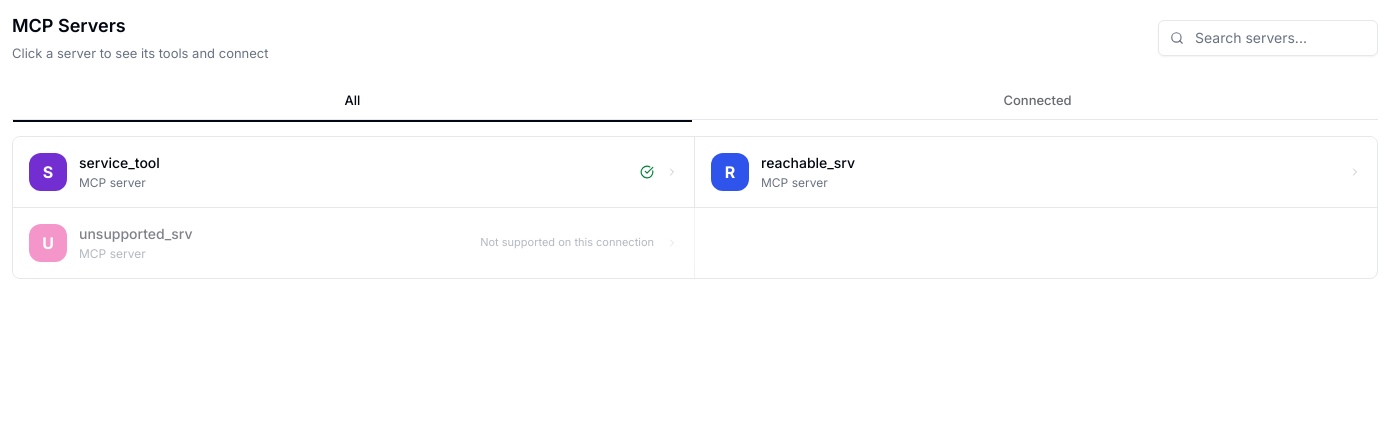
Test case: MCPAppsPanel connected-app reachability (LIT-4861) › blocks connecting an unsupported server from the detail view in connect mode
This screenshot has width=1390, height=428.
Click the text "unsupported_srv". click: [136, 233]
box: x1=79 y1=224 x2=192 y2=242
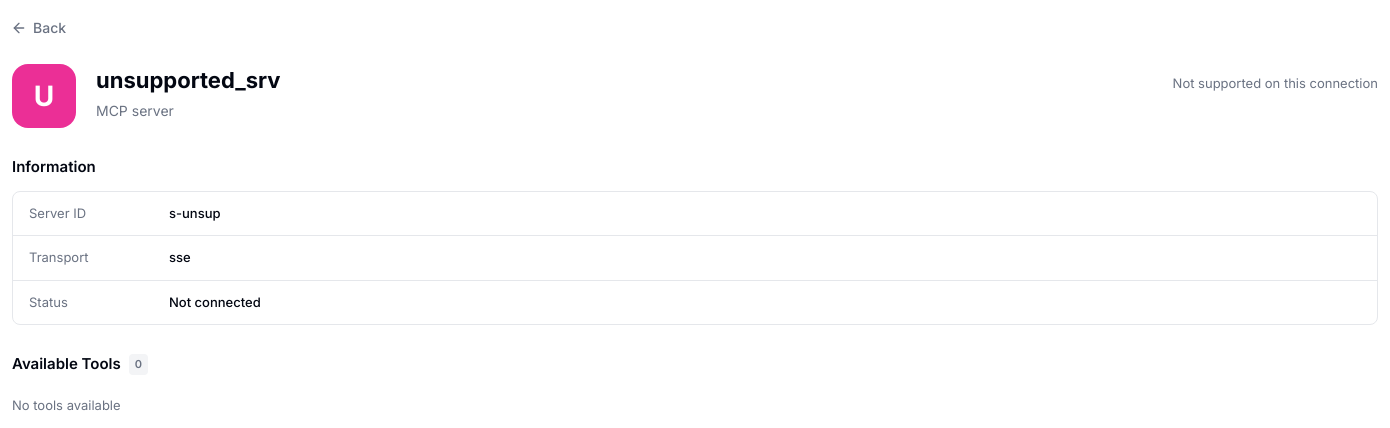
expect the text "Not supported on this connection" is shown: met, box x1=1173 y1=75 x2=1378 y2=91
expect the heading "unsupported_srv" is shown: met, box x1=96 y1=67 x2=280 y2=93
